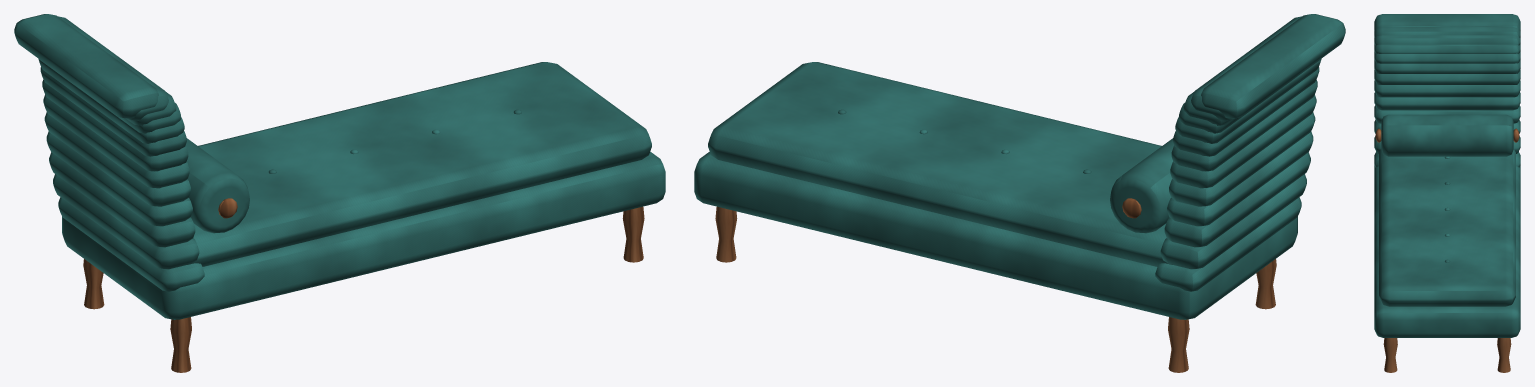
The model's file is chaise_longue.glb.
3 views of the same model, side by side, from view 1: azimuth 30°, elevation 25°; view 2: azimuth 150°, elevation 25°; view 3: azimuth 270°, elevation 25° (orthographic). The views are drawn at different scales.
Visible parts, largest first — view 1: model; view 2: model; view 3: model.
Boxes of the visible parts, box(x1,y1,x2,y2) form: model: box(14, 14, 665, 372); model: box(694, 14, 1345, 372); model: box(1374, 14, 1520, 372).
Size of the model in its own units: 1.75 by 0.9 by 0.62.
2 materials, 2 textured.
